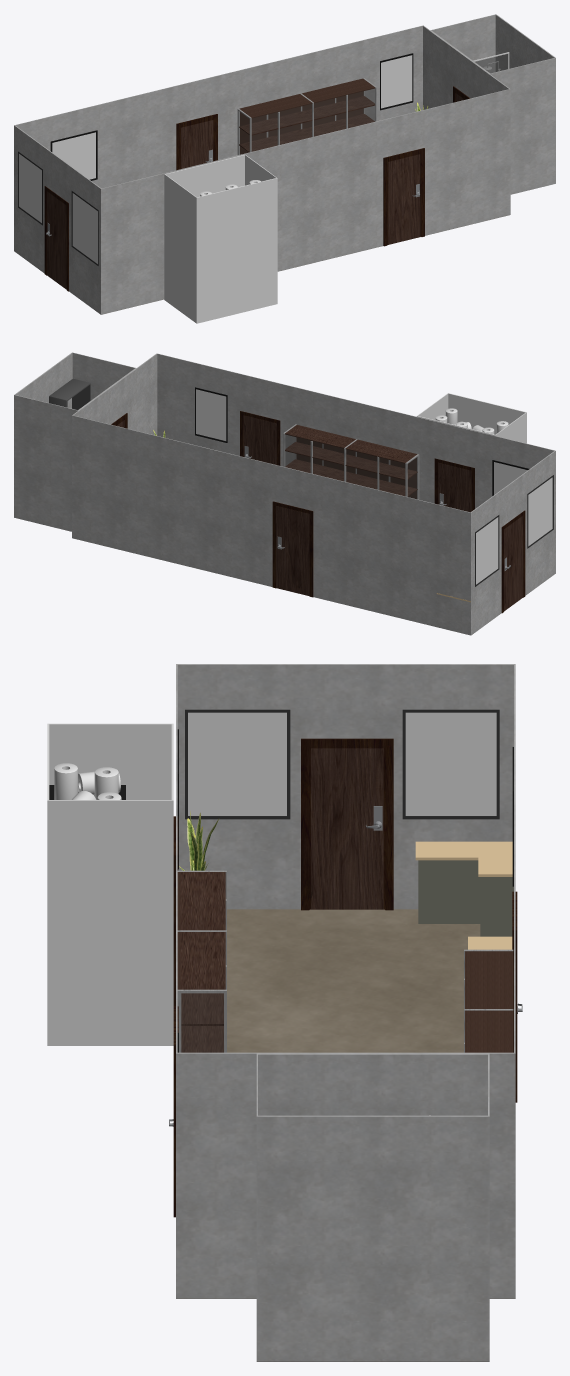
The model's file is Room.fbx.
The picture shows the model from 3 angles, top to bottom: view 1: azimuth 30°, elevation 25°; view 2: azimuth 150°, elevation 25°; view 3: azimuth 270°, elevation 25°; orthographic projection. The views are drawn at different scales.
Parts seen in each view (by area): view 1: Cube, Cr.001, Cr, Cabinet, Cube.010, Door.003, Window, Door.001, Door.004, Frame.001, Frame, Glasss; view 2: Cube, Cr, Cabinet.001, Cube.011, Door.004, Window, Cr.001, Door.001, Door.003, Frame.002, Door.006, Cube.004 (+2 smaller); view 3: Cube, Cr, Cr.001, Window, Door.001, Cabinet.001, Cube.001, Cabinet, Cube.011, Plant.003, Door.004, Cylinder.003.
Part boxes in pixels (x1,y1,x2,y2): Cube: [14, 25, 510, 314]; Cr.001: [164, 154, 277, 323]; Cr: [430, 14, 555, 194]; Cabinet: [237, 78, 376, 154]; Cube.010: [239, 88, 374, 154]; Door.003: [383, 148, 424, 246]; Window: [18, 151, 98, 265]; Door.001: [44, 186, 68, 291]; Door.004: [176, 114, 217, 170]; Frame.001: [380, 53, 413, 110]; Frame: [50, 130, 97, 180]; Glasss: [475, 54, 507, 73]; Cube: [72, 353, 555, 635]; Cr: [14, 352, 136, 531]; Cabinet.001: [283, 424, 419, 499]; Cube.011: [285, 435, 417, 498]; Door.004: [272, 501, 313, 597]; Window: [475, 475, 553, 586]; Cr.001: [416, 393, 526, 443]; Door.001: [501, 510, 525, 613]; Door.003: [240, 411, 280, 465]; Frame.002: [195, 387, 227, 442]; Door.006: [438, 462, 471, 512]; Cube.004: [49, 378, 90, 409]; Cube: [176, 664, 515, 1298]; Cr: [256, 1053, 489, 1361]; Cr.001: [47, 723, 173, 1045]; Window: [185, 709, 499, 819]; Door.001: [301, 738, 393, 910]; Cabinet.001: [177, 870, 226, 1052]; Cube.001: [415, 841, 513, 936]; Cabinet: [464, 949, 513, 1052]; Cube.011: [181, 993, 223, 1052]; Plant.003: [179, 811, 219, 870]; Door.004: [512, 891, 522, 1102]; Cylinder.003: [54, 763, 77, 799].
Size of the model in its own units: 11.93 by 3 by 5.27.
